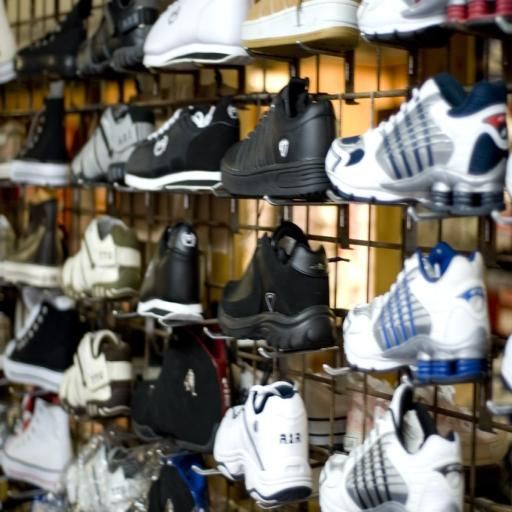shoe: (326, 72, 508, 214), (343, 242, 490, 384), (319, 384, 464, 512), (344, 375, 510, 467), (218, 221, 335, 351), (221, 77, 336, 198), (131, 327, 231, 453), (214, 380, 312, 504), (124, 96, 240, 190), (4, 294, 88, 393), (64, 431, 160, 512), (414, 386, 510, 467), (143, 0, 253, 70), (241, 0, 361, 57), (0, 398, 73, 490), (62, 215, 141, 299), (71, 104, 155, 183), (58, 330, 132, 418), (137, 222, 203, 318), (76, 0, 159, 76), (10, 81, 70, 186), (15, 0, 92, 78), (3, 199, 64, 288), (357, 0, 452, 47), (343, 373, 394, 452), (147, 453, 209, 512), (300, 372, 349, 446), (0, 50, 26, 180), (0, 214, 16, 351), (447, 0, 512, 32), (0, 0, 17, 84), (500, 334, 512, 391), (447, 0, 467, 24), (504, 156, 512, 199)
